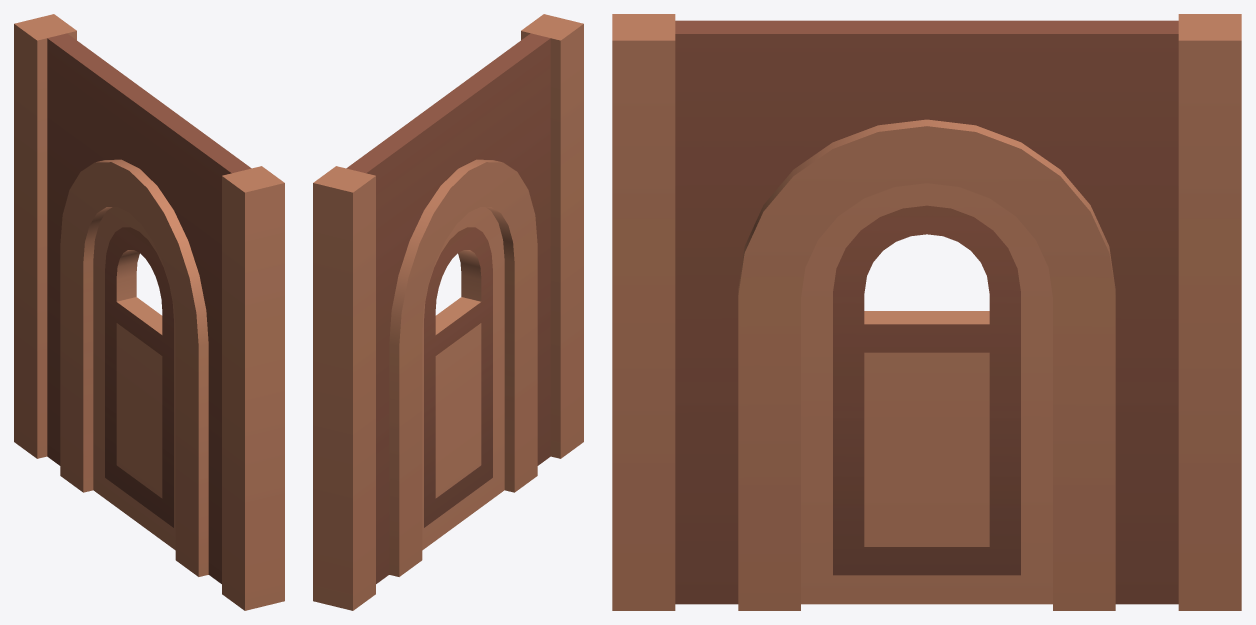
File: kenney-fantasy-town-wall-wood-door.glb
3 renders of one model, left to right at view 1: azimuth 30°, elevation 25°; view 2: azimuth 150°, elevation 25°; view 3: azimuth 270°, elevation 25°, orthographic. The views are drawn at different scales.
Parts seen in each view (by area): view 1: wall-wood-door, door; view 2: wall-wood-door, door; view 3: wall-wood-door, door.
Boxes of the visible parts, x1,y1,x2,y2 form: wall-wood-door: [14, 14, 284, 610]; door: [93, 207, 175, 550]; wall-wood-door: [313, 14, 583, 610]; door: [422, 207, 504, 550]; wall-wood-door: [612, 14, 1241, 610]; door: [801, 183, 1052, 604].
Bounding box in the file's own units: 0.1 × 1 × 1.
1 material, 1 textured.
